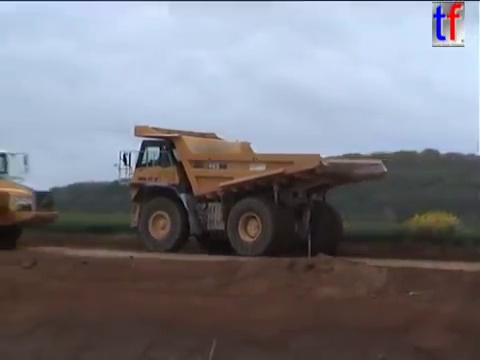truck: (112, 122, 392, 260), (1, 148, 61, 254)
